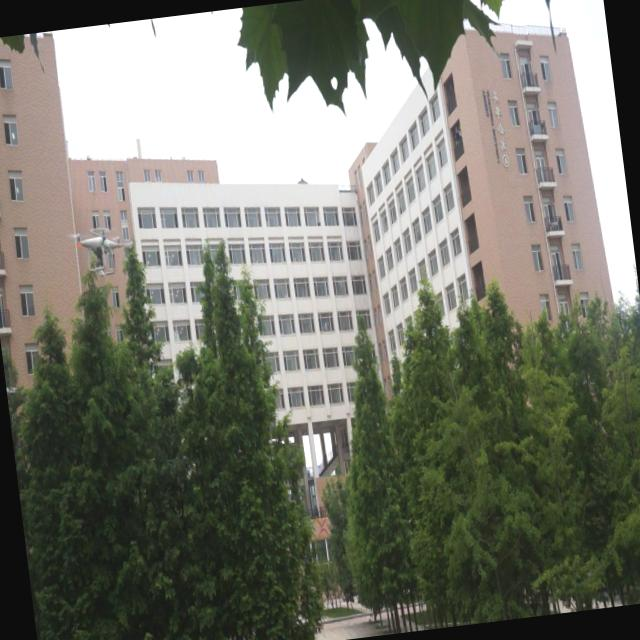drone: (68, 221, 138, 281)
